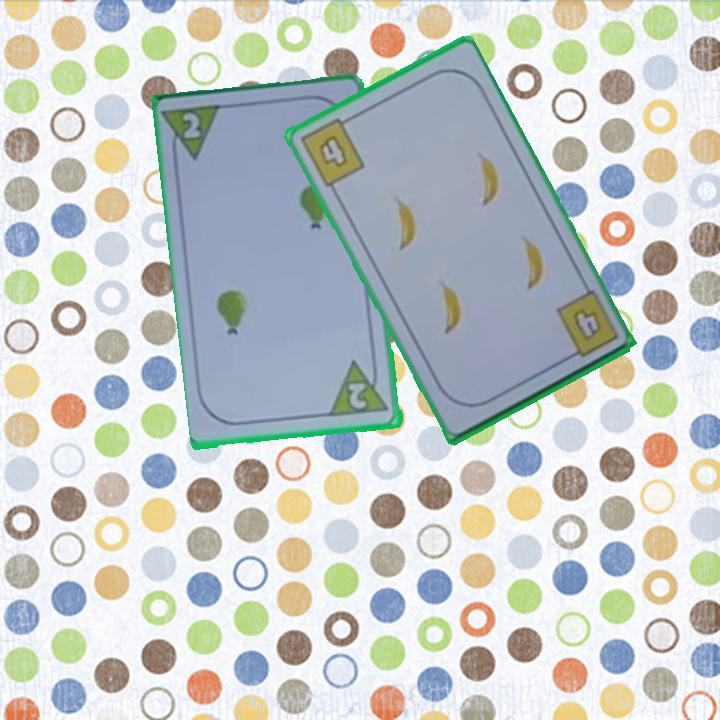2p: (345, 380, 370, 413), (179, 109, 204, 142)
4b: (296, 112, 368, 190), (552, 286, 622, 363)
